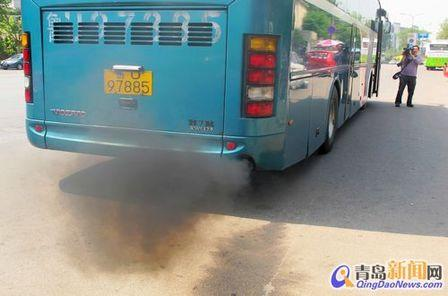smoke: (75, 140, 251, 267)
